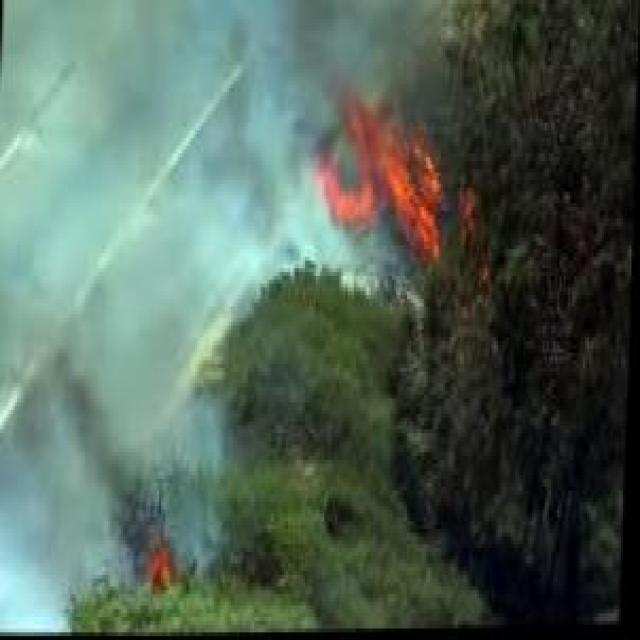Fire: (307, 85, 513, 288)
Smoke: (0, 0, 320, 268), (0, 268, 161, 556)
